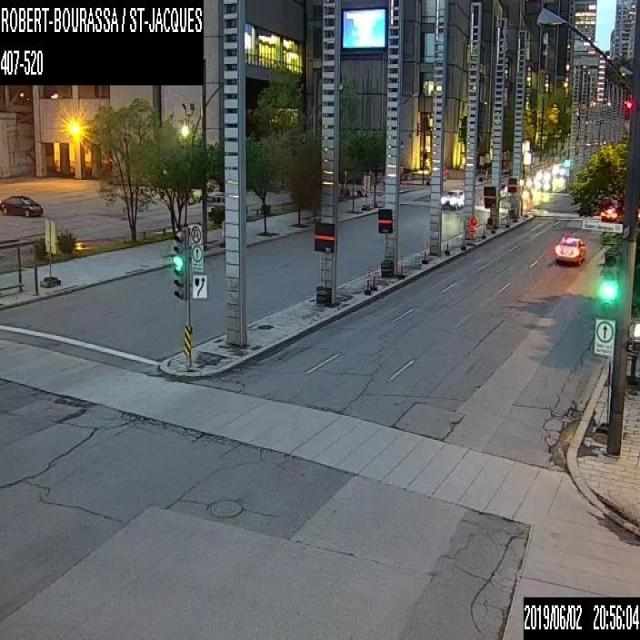construction: (466, 215, 476, 236), (365, 274, 370, 294), (370, 273, 376, 289), (399, 256, 403, 275), (423, 244, 427, 260), (446, 237, 449, 251), (461, 233, 464, 246), (514, 208, 517, 220), (491, 220, 494, 231), (482, 225, 485, 236), (506, 215, 509, 225)
vehicle: (0, 194, 43, 218), (554, 235, 586, 264), (441, 188, 464, 208)
